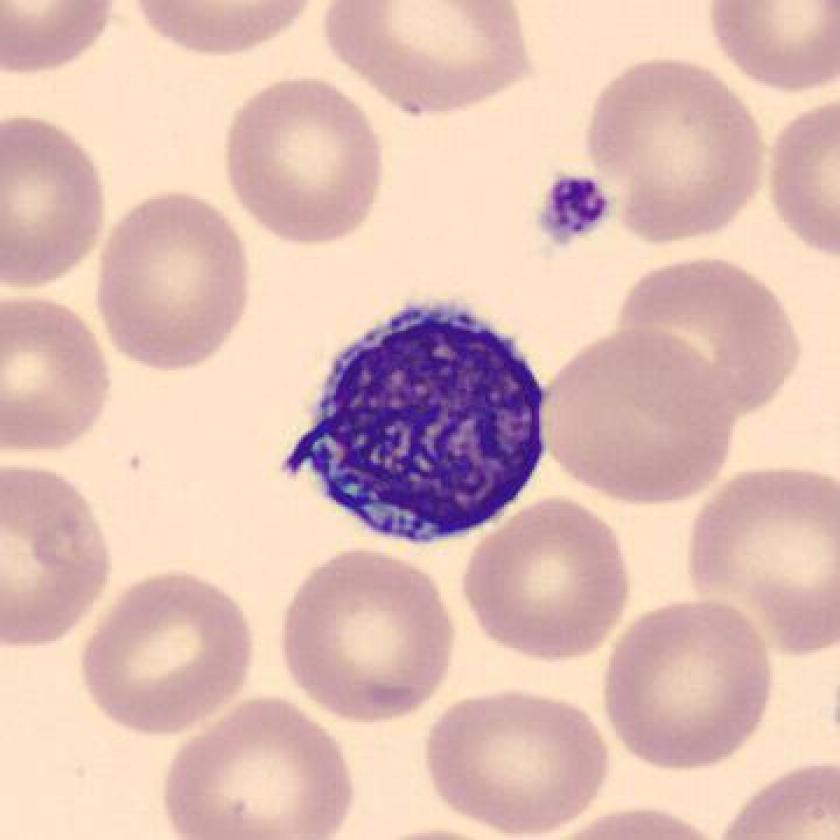lymphocyte: (272, 281, 566, 570)
